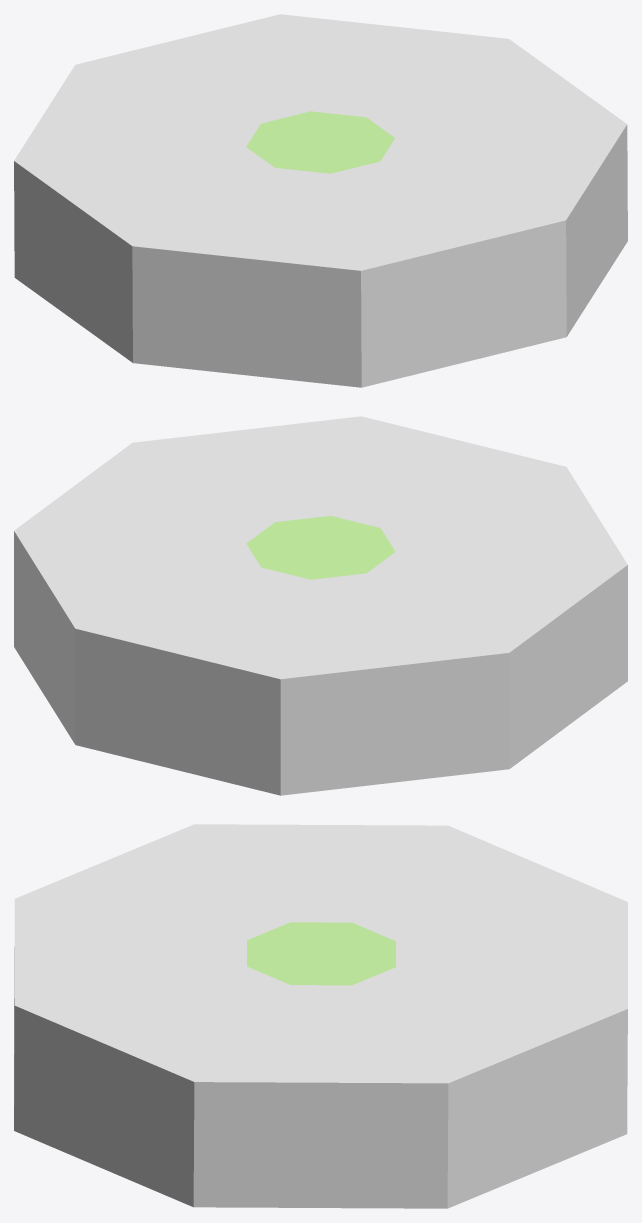
The model's file is leek03.gltf.
3 renders of one model, top to bottom at view 1: azimuth 30°, elevation 25°; view 2: azimuth 150°, elevation 25°; view 3: azimuth 270°, elevation 25°, orthographic. The views are drawn at different scales.
Parts seen in each view (by area): view 1: Cylinder.001; view 2: Cylinder.001; view 3: Cylinder.001.
Part boxes in pixels (box(x1,y1,x2,y2)): Cylinder.001: box(14, 14, 627, 387); Cylinder.001: box(14, 416, 627, 795); Cylinder.001: box(14, 824, 627, 1208).
Bounding box in the file's own units: 0.0335 × 0.00777 × 0.0335.
1 material, 1 textured.
